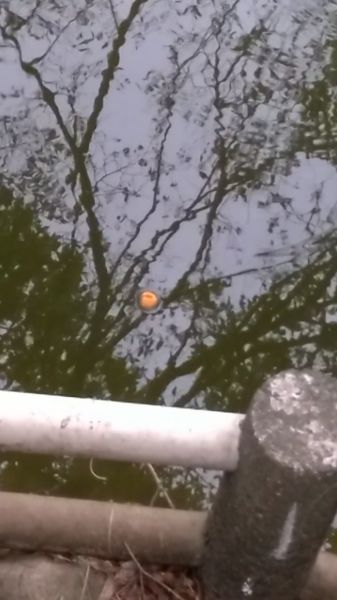eggs: (134, 290, 164, 312)
